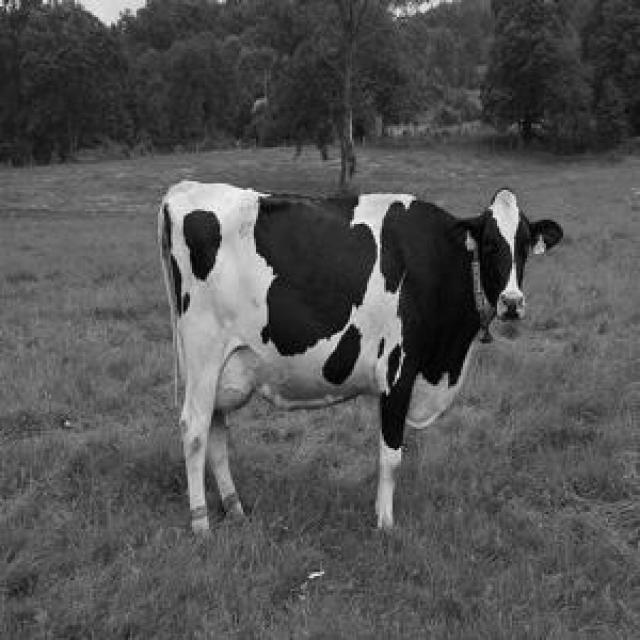cow: (159, 181, 562, 531)
